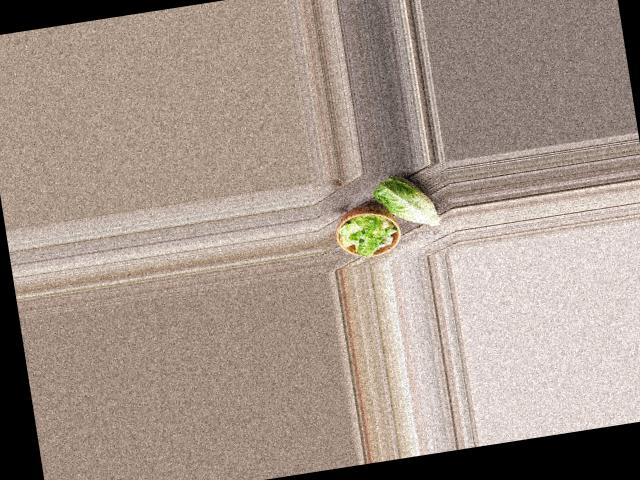lettuce: (372, 169, 439, 234)
